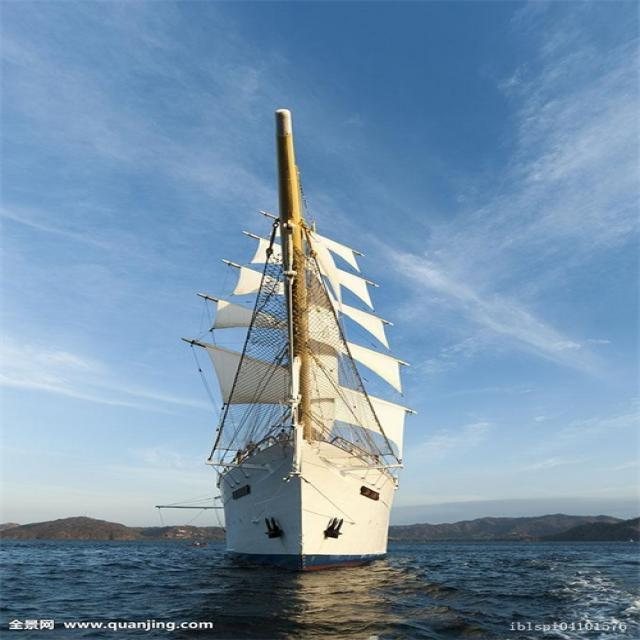Ship: (168, 109, 410, 580)
